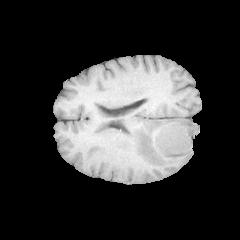glioma: (128, 119, 195, 167)
